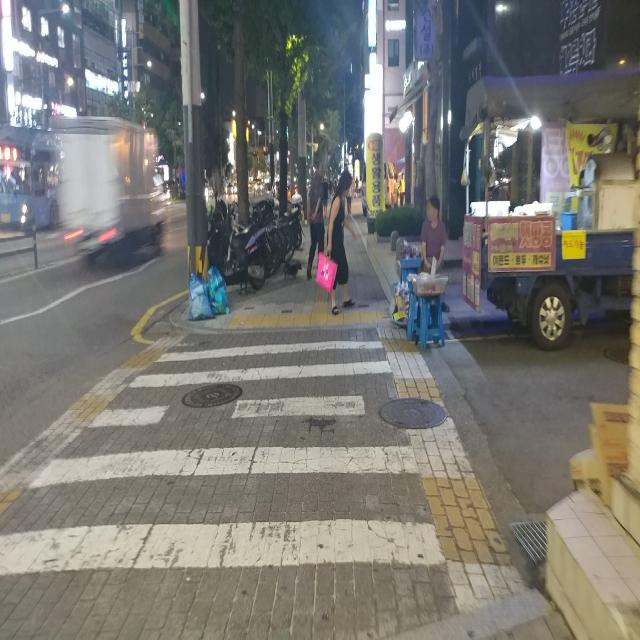횡단보도: (0, 340, 446, 576)
